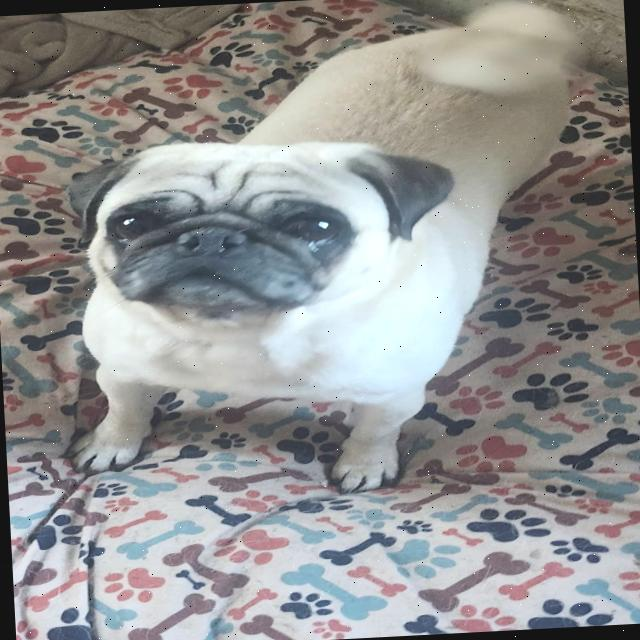pug_dog: (38, 117, 478, 345)
